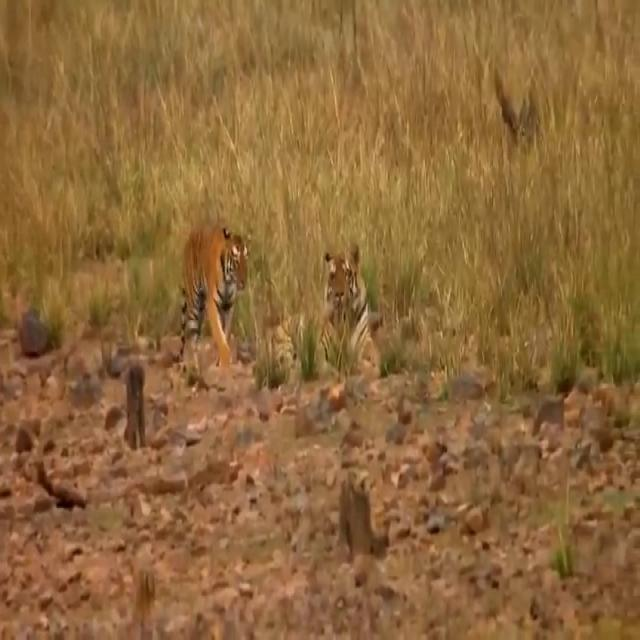tiger: (261, 243, 382, 379), (170, 226, 253, 373)
